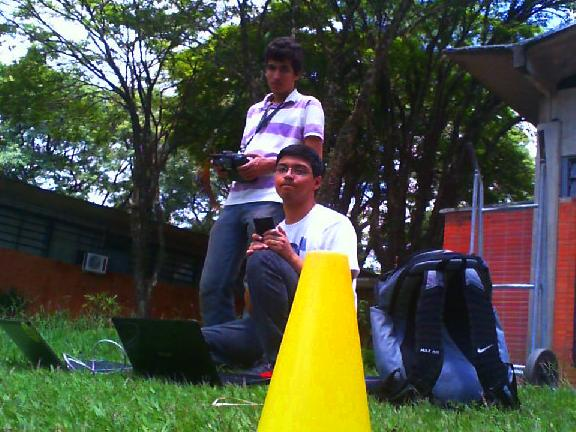0 cone: (250, 250, 374, 432)
